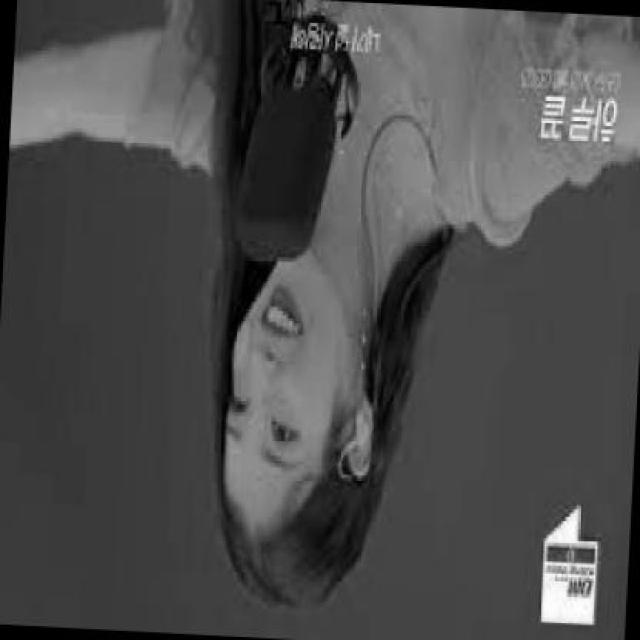earphone: (346, 390, 376, 480)
